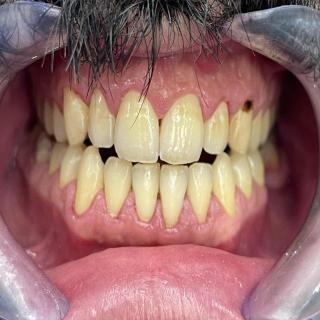Gum Swelling: (51, 178, 140, 238)
cavities: (239, 93, 261, 125)
